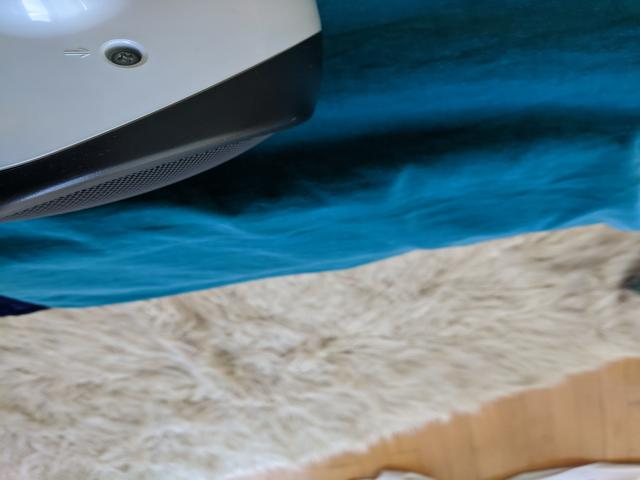CRS: (109, 48, 139, 66)
